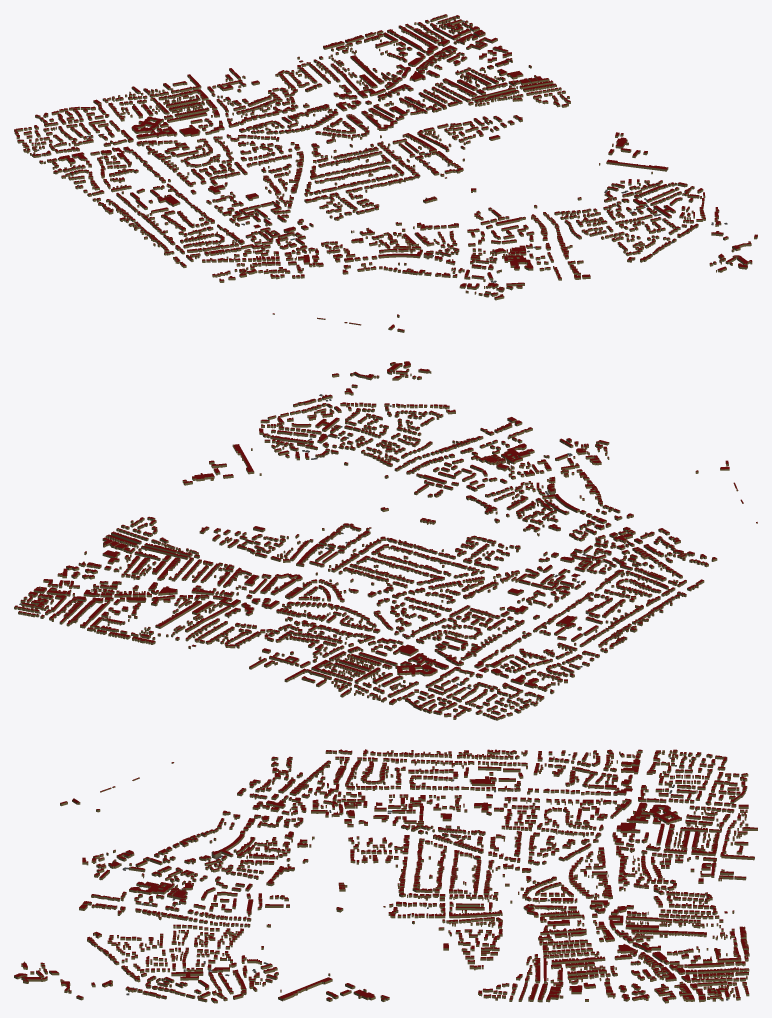
The picture shows the model from 3 angles, top to bottom: view 1: azimuth 30°, elevation 25°; view 2: azimuth 150°, elevation 25°; view 3: azimuth 270°, elevation 25°; orthographic projection. The views are drawn at different scales.
Visible parts, largest first — view 1: no part large enough to name; view 2: no part large enough to name; view 3: Building1.
Part boxes in pixels (x1,y1,x2,y2): Building1: [641, 804, 681, 824].
Size of the model in its own units: 1702 by 12.5 by 2125.
